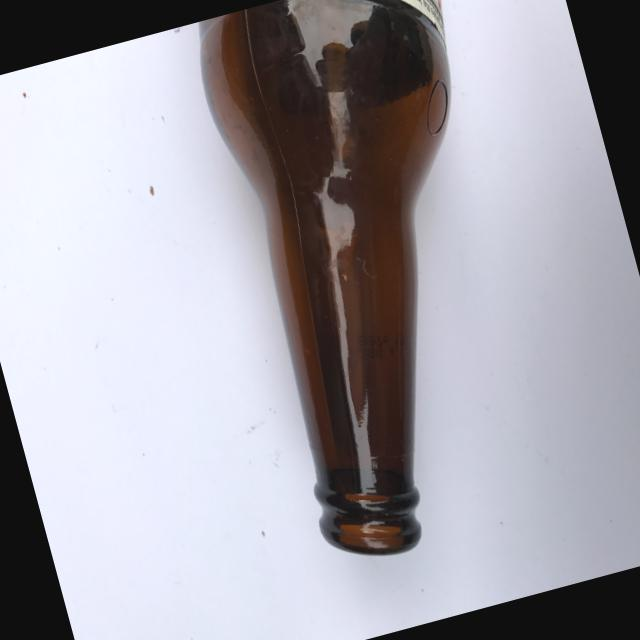Glass: (177, 0, 587, 585)
